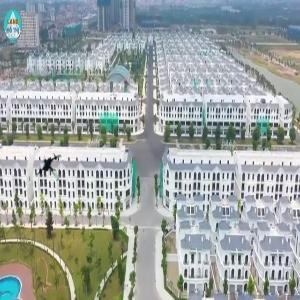drone: (33, 153, 69, 189)
